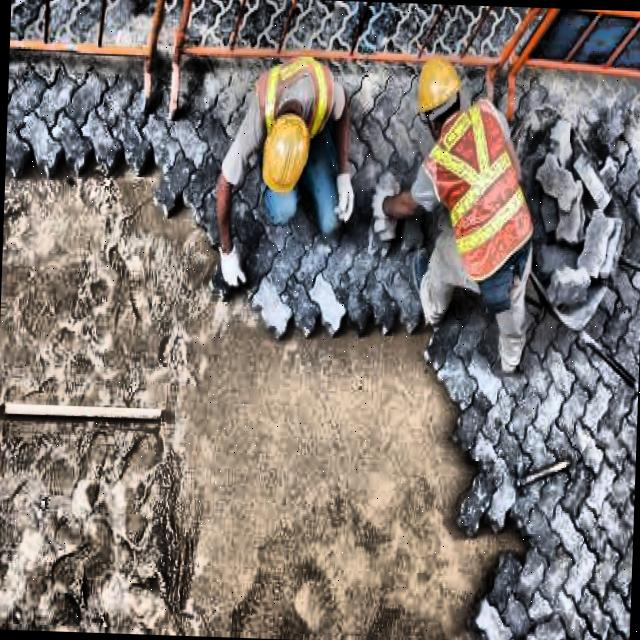helmet: (410, 50, 468, 145), (258, 108, 315, 198)
